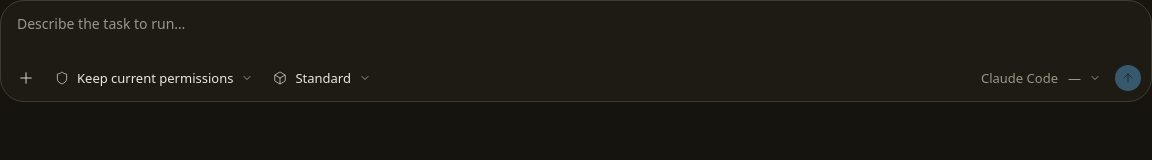
Scenario: shows a native clipboard failure without discarding the draft
Type "caption" into the text box. click: (576, 34)
box: top-left (11, 11), bottom-right (1141, 57)
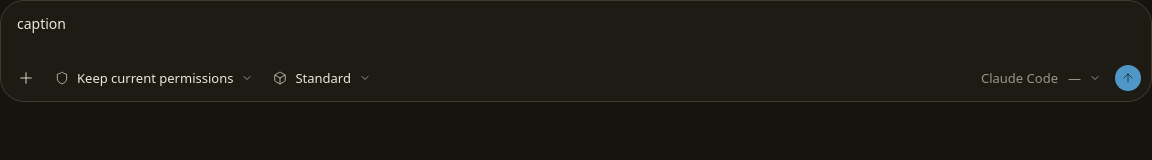
Press v in the text box, box top-left (11, 11), bottom-right (1141, 57)
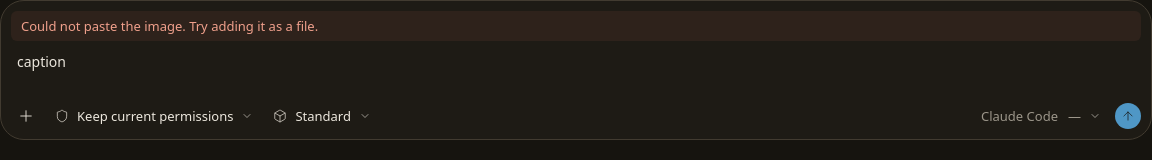
Now the text "Could not paste the image. Try adding it as a file." is shown, box top-left (11, 11), bottom-right (1141, 41)
